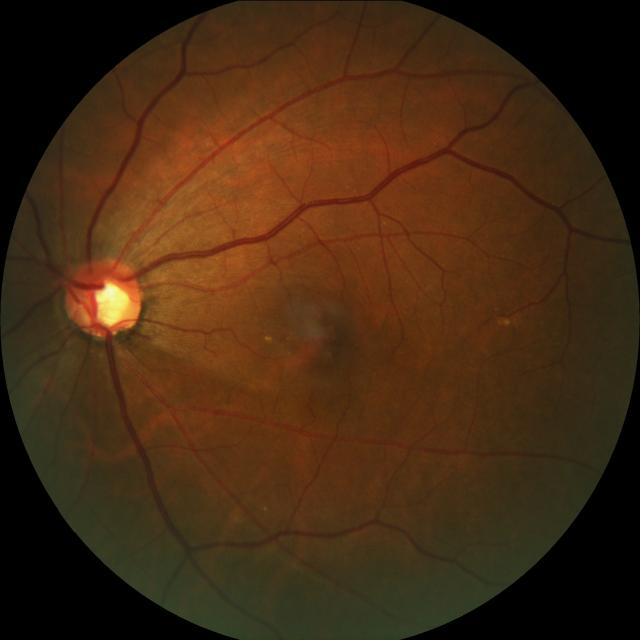OC: (87, 279, 132, 325)
OD: (67, 258, 145, 336)
